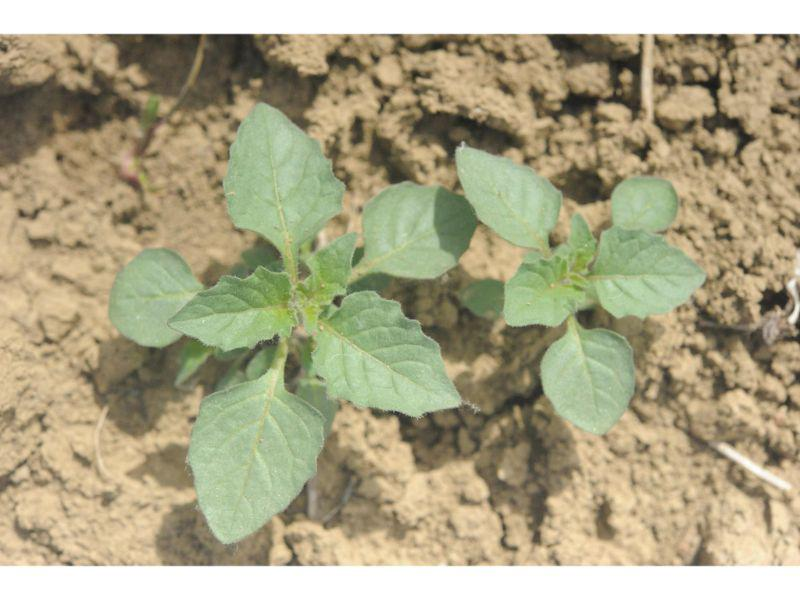nightshade: (108, 100, 477, 544), (456, 143, 709, 435)
